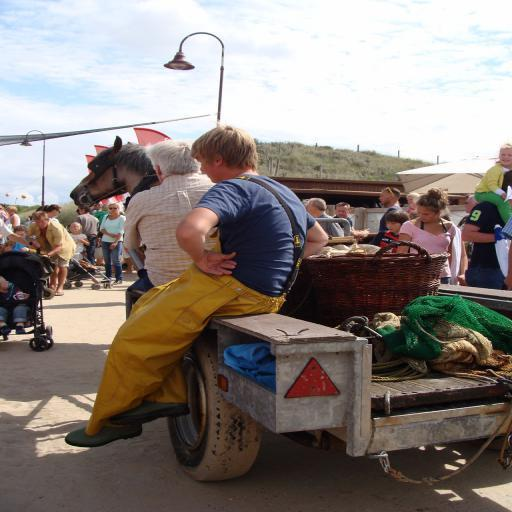horse: (72, 136, 162, 212)
